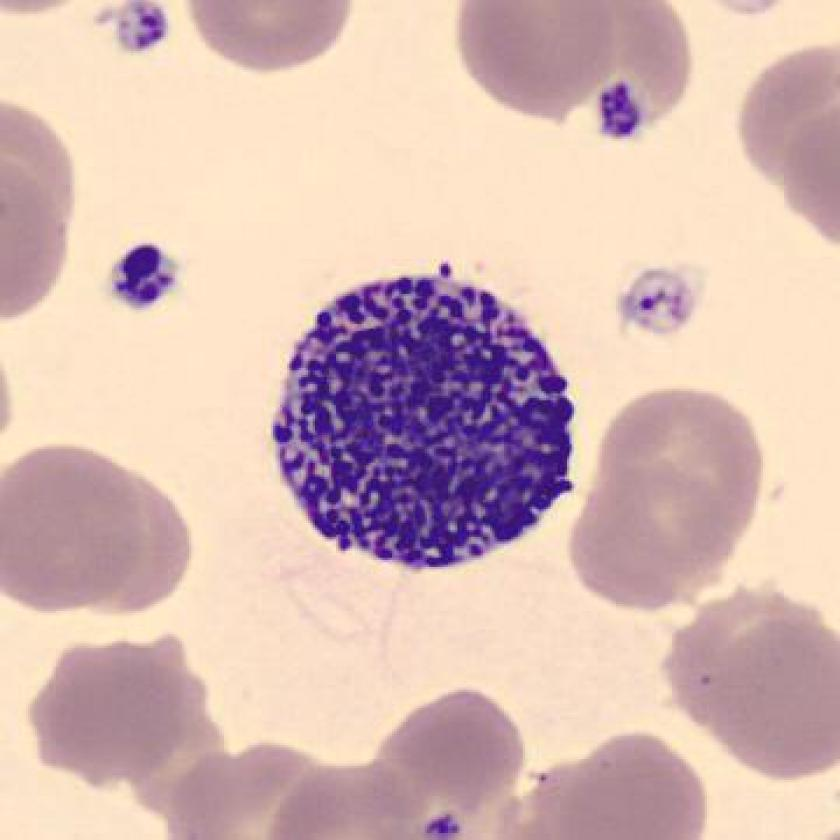basophil: (265, 253, 587, 570)
